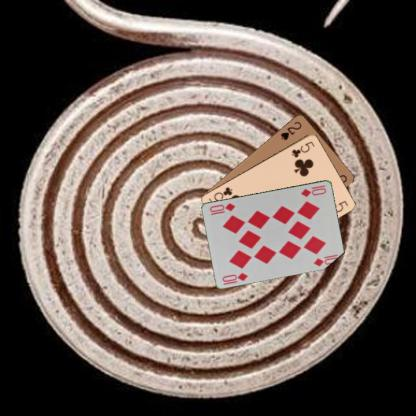10d: (298, 182, 328, 198), (220, 270, 249, 283)
2s: (277, 118, 303, 142)
5c: (290, 138, 316, 159)
